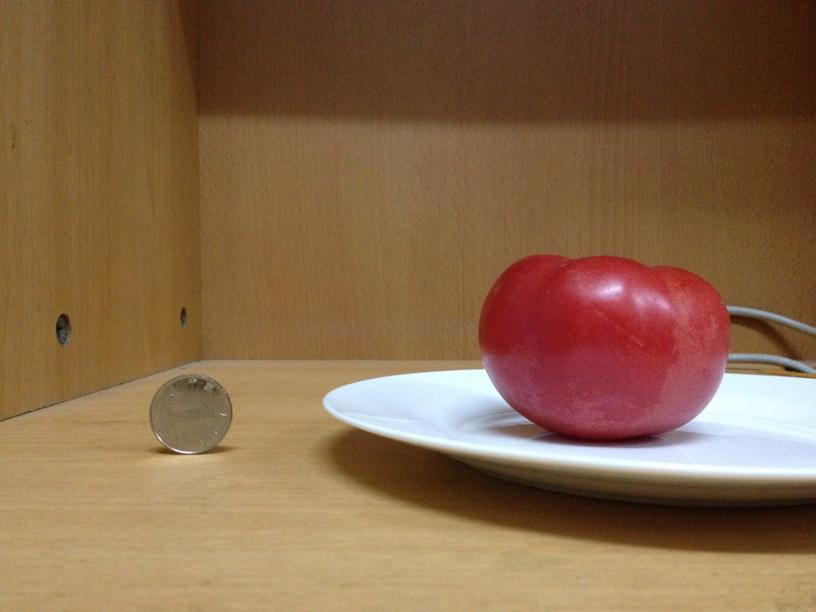coin: (145, 374, 235, 455)
tomato: (474, 256, 730, 441)
